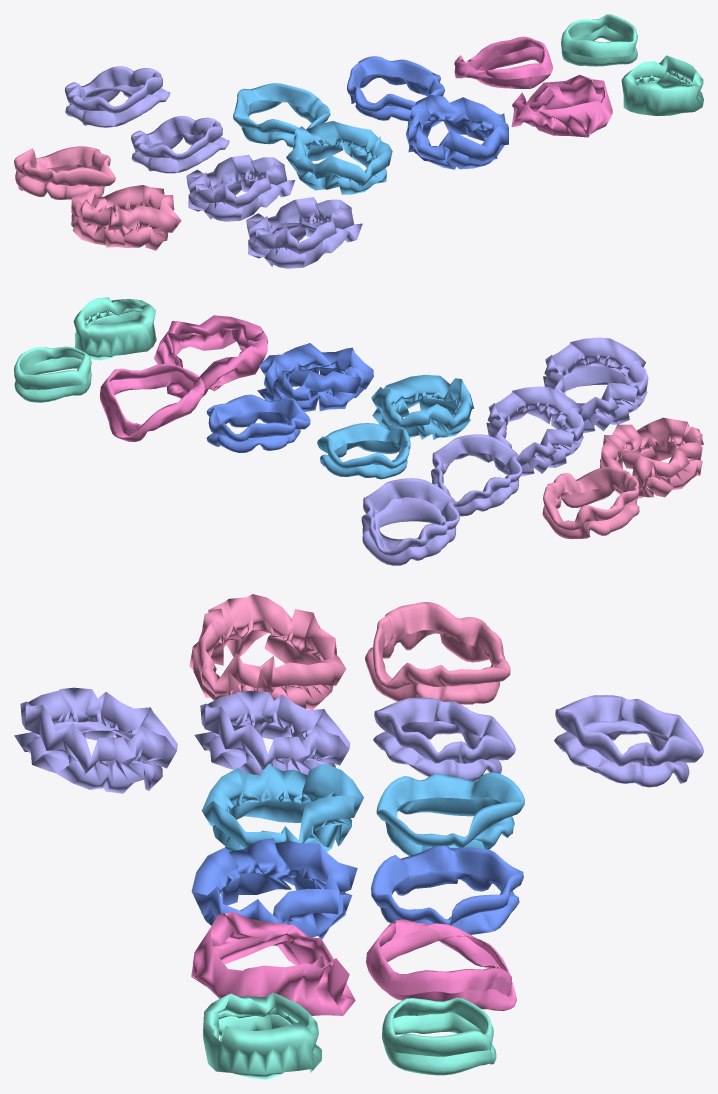
File: scrunhy.fbx
The picture shows the model from 3 angles, top to bottom: view 1: azimuth 30°, elevation 25°; view 2: azimuth 150°, elevation 25°; view 3: azimuth 270°, elevation 25°; orthographic projection. The views are drawn at different scales.
Visible parts, largest first — view 1: scrunch4.001, scr3, scrunch3.001, scrunch5, scrunch4, scrunch, scrunch4.003, scrunch5.001, scrunh2, scrunch4.002, scr3.001, scrunch.001 (+2 smaller); view 2: scrunch4.001, scrunch4.003, scrunch5, scr3, scrunch4, scrunch5.001, scrunch3.001, scrunch, scr3.001, scrunh2, scrunch.001, scrunch3.002 (+2 smaller); view 3: scrunch4.001, scrunch5, scr3, scrunch, scrunch3.001, scrunch4.003, scrunch5.001, scrunch4, scr3.001, scrunh2, scrunch4.002, scrunch.001 (+2 smaller).
Boxes of the visible parts, x1,y1,x2,y2 form: scrunch4.001: (246, 197, 362, 268); scr3: (406, 95, 508, 169); scrunch3.001: (286, 121, 392, 194); scrunch5: (71, 185, 181, 250); scrunch4: (186, 154, 295, 221); scrunch: (511, 74, 612, 137); scrunch4.003: (64, 66, 170, 127); scrunch5.001: (14, 146, 115, 199); scrunh2: (621, 55, 703, 115); scrunch4.002: (131, 115, 229, 173); scr3.001: (347, 56, 444, 121); scrunch.001: (454, 36, 552, 88); scrunch4.001: (543, 337, 648, 433); scrunch4.003: (361, 478, 459, 565); scrunch5: (600, 417, 703, 498); scr3: (257, 343, 373, 411); scrunch4: (486, 386, 584, 476); scrunch5.001: (542, 466, 639, 539); scrunch3.001: (371, 374, 474, 439); scrunch: (154, 315, 267, 398); scr3.001: (206, 394, 310, 452); scrunh2: (73, 297, 156, 360); scrunch.001: (99, 364, 205, 441); scrunch3.002: (317, 423, 410, 479); scrunch4.001: (14, 687, 177, 793); scrunch5: (189, 594, 346, 709); scr3: (191, 838, 357, 945); scrunch: (191, 911, 355, 1015); scrunch3.001: (201, 763, 363, 852); scrunch4.003: (554, 695, 703, 787); scrunch5.001: (365, 602, 510, 704); scrunch4: (194, 690, 350, 775); scr3.001: (371, 845, 523, 934); scrunh2: (203, 992, 321, 1079); scrunch4.002: (373, 697, 515, 780); scrunch.001: (366, 919, 516, 1010).
Size of the model in its own units: 13790 by 1366 by 9273.
